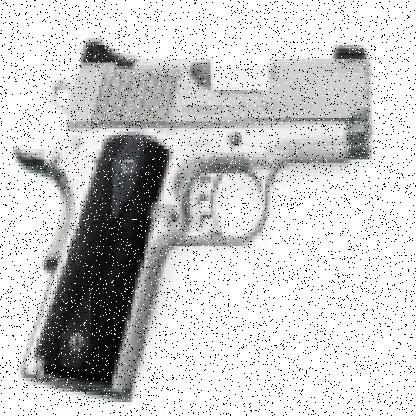pistol: (29, 31, 370, 398)
